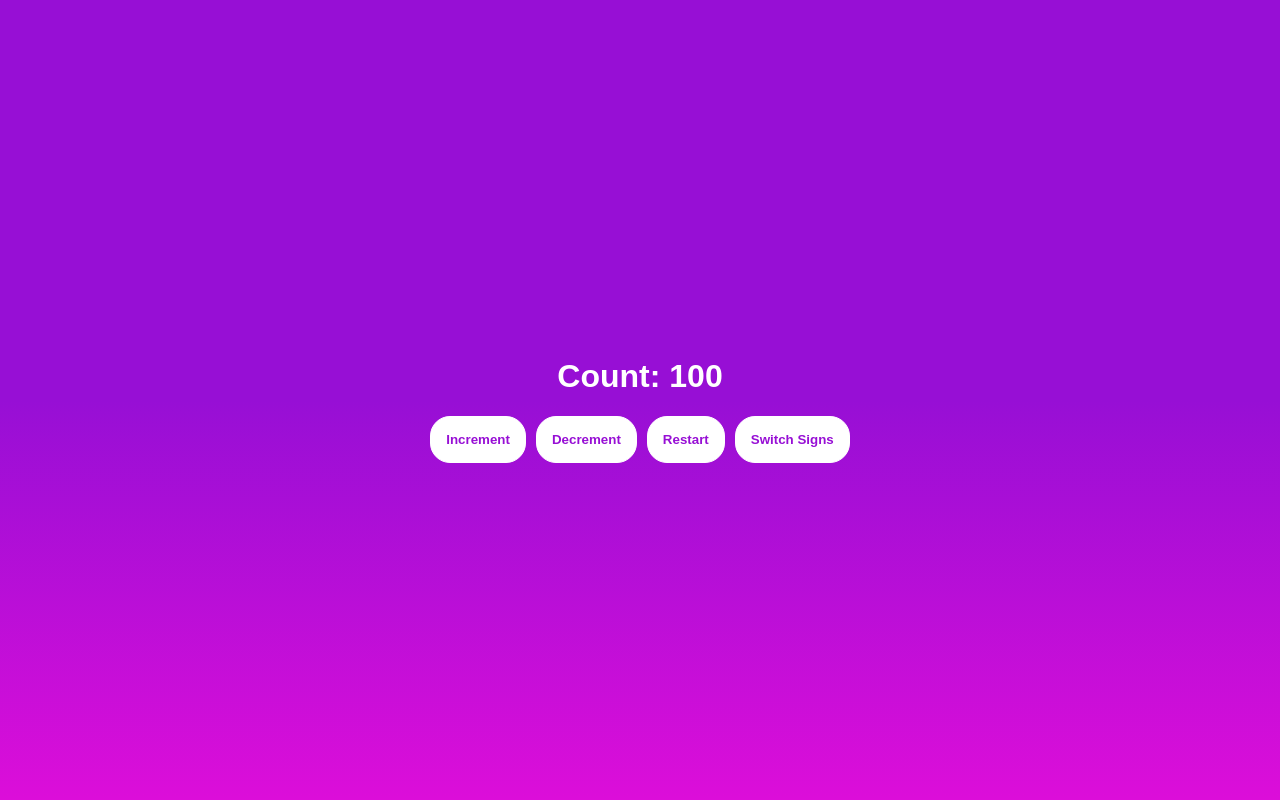
Counter App › Switch signs should be negative
Click the button "Increment" at {"x": 478, "y": 440}, box [430,416,526,463]
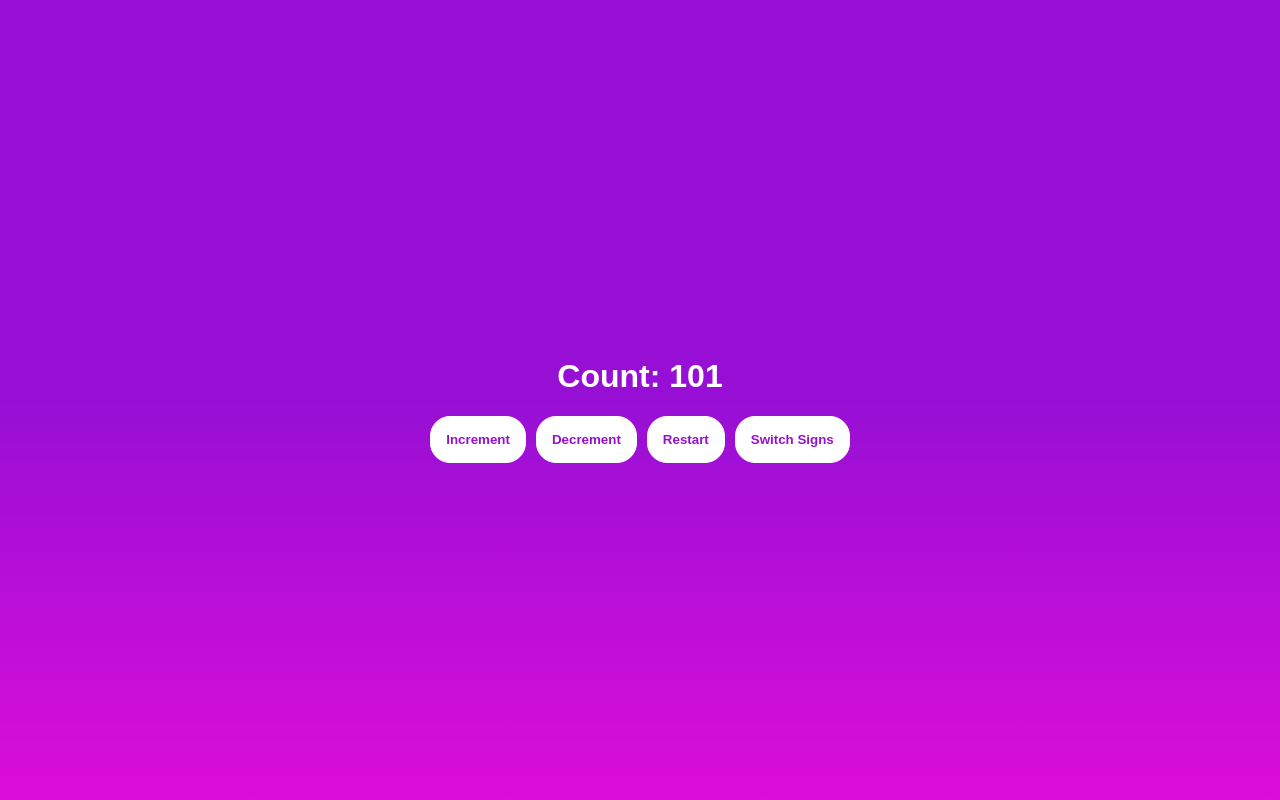
Click the button "Increment" at {"x": 478, "y": 440}, box [430,416,526,463]
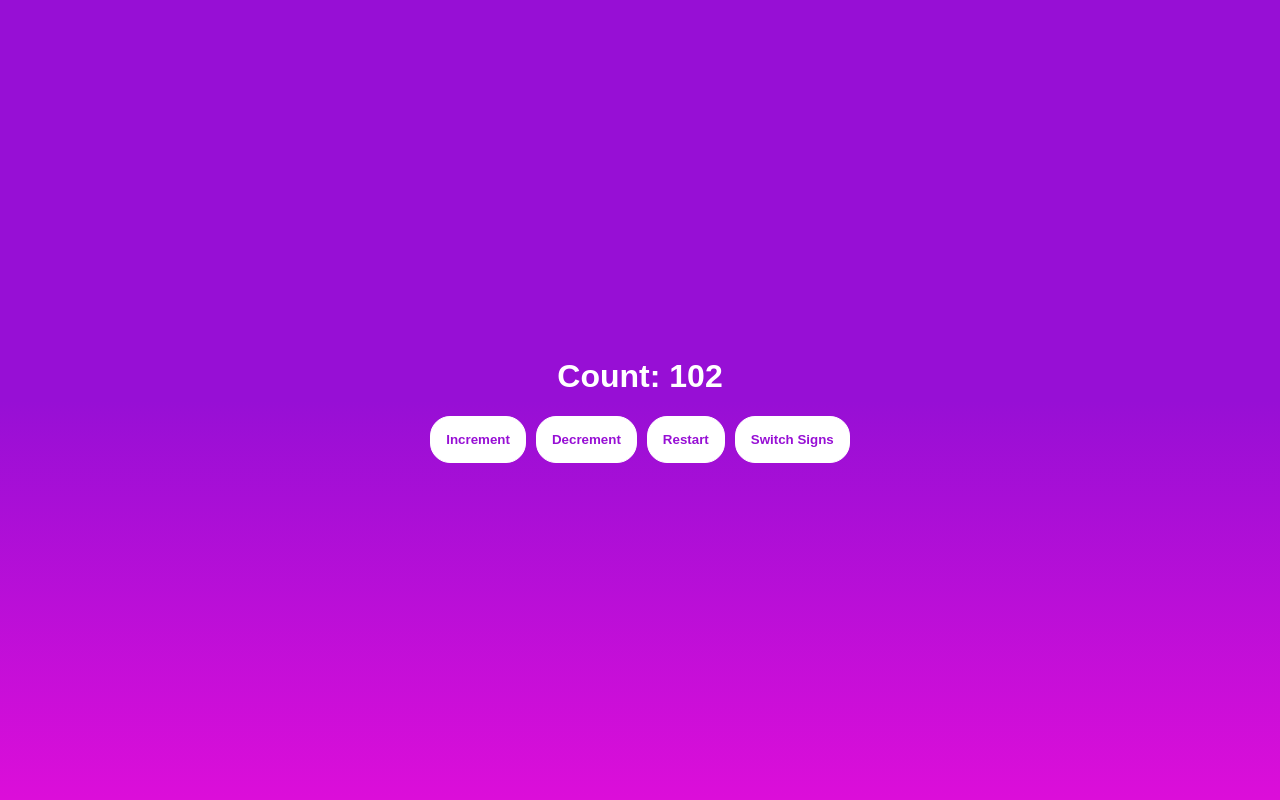
Click the button "Switch Signs" at {"x": 792, "y": 440}, box [735,416,850,463]
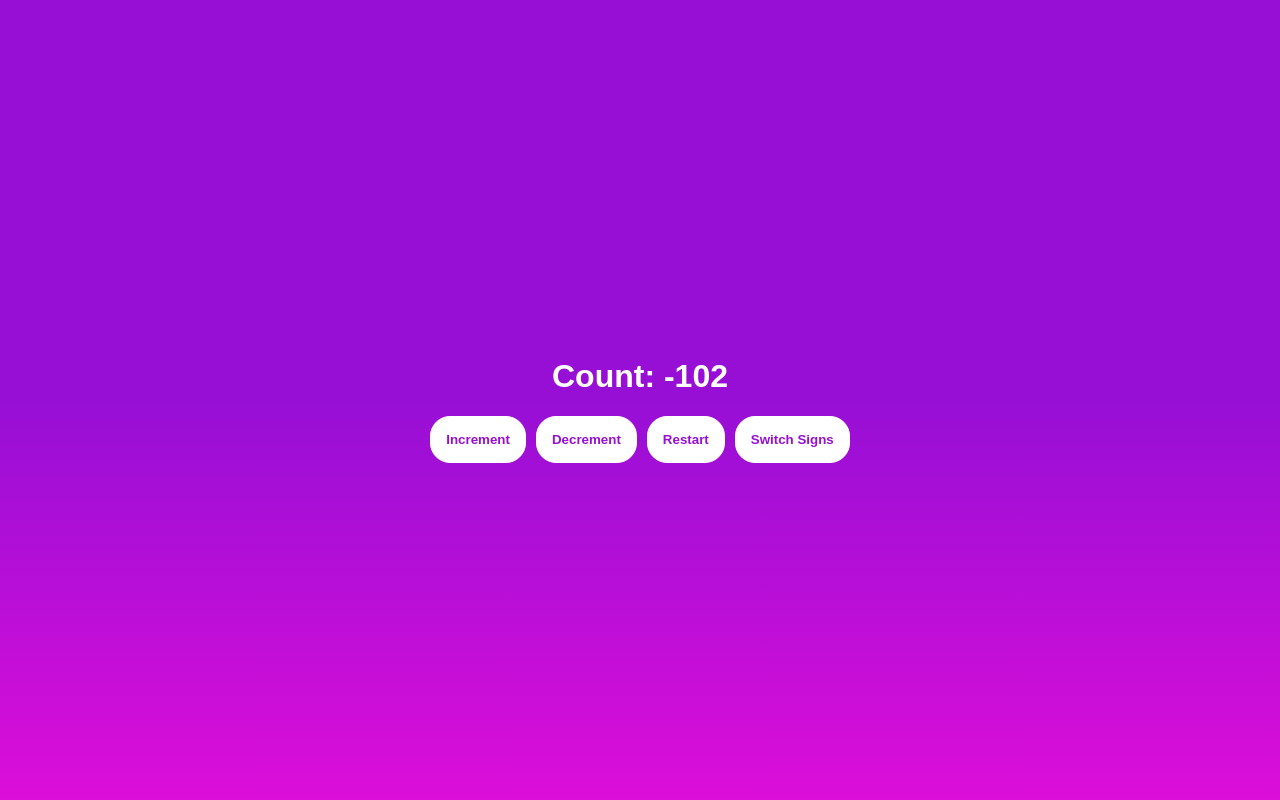
Expected: the heading "Count: -102" is shown, [552,358,728,395]
